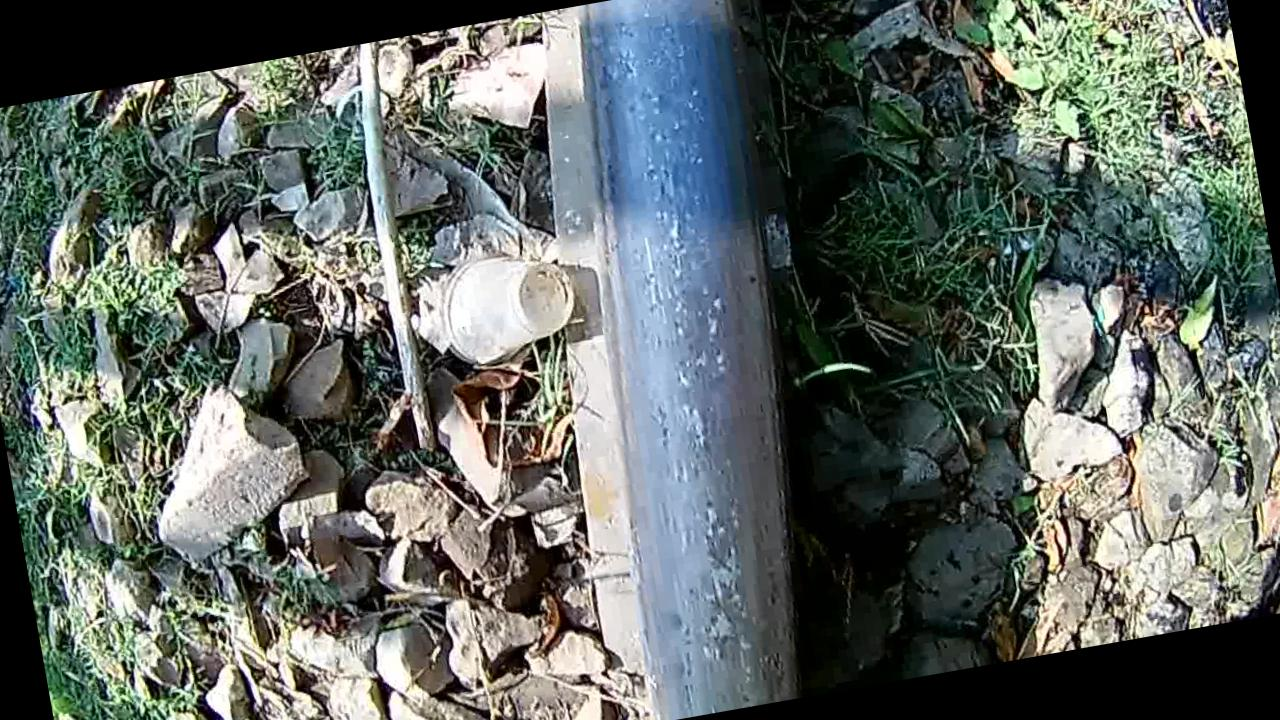clip_missing: (543, 0, 857, 720)
